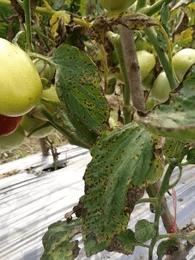Bacterial Spot: (73, 119, 161, 258), (51, 42, 113, 151)
